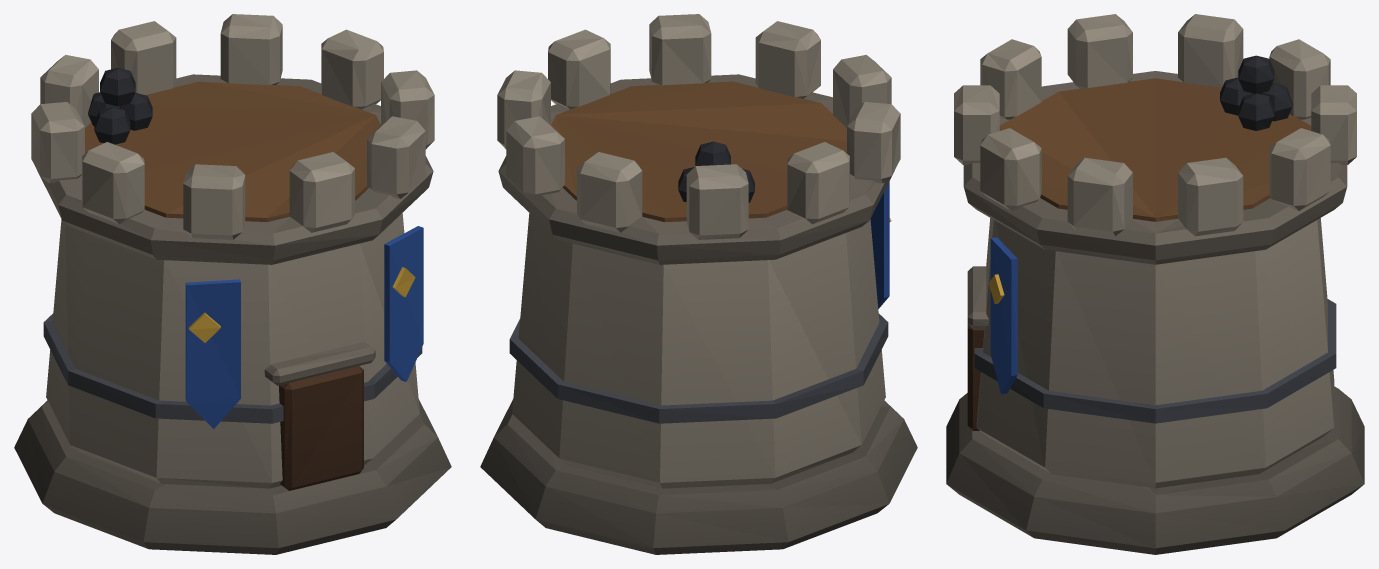
File: cannon_tower.glb
3 renders of one model, left to right at view 1: azimuth 30°, elevation 25°; view 2: azimuth 150°, elevation 25°; view 3: azimuth 270°, elevation 25°, orthographic.
Visible parts, largest first — view 1: cannon_tower; view 2: cannon_tower; view 3: cannon_tower.
Boxes of the visible parts, x1,y1,x2,y2 form: cannon_tower: (14, 14, 451, 554); cannon_tower: (480, 14, 917, 554); cannon_tower: (946, 14, 1364, 554).
Bounding box in the file's own units: 0.96 × 0.915 × 0.913.
